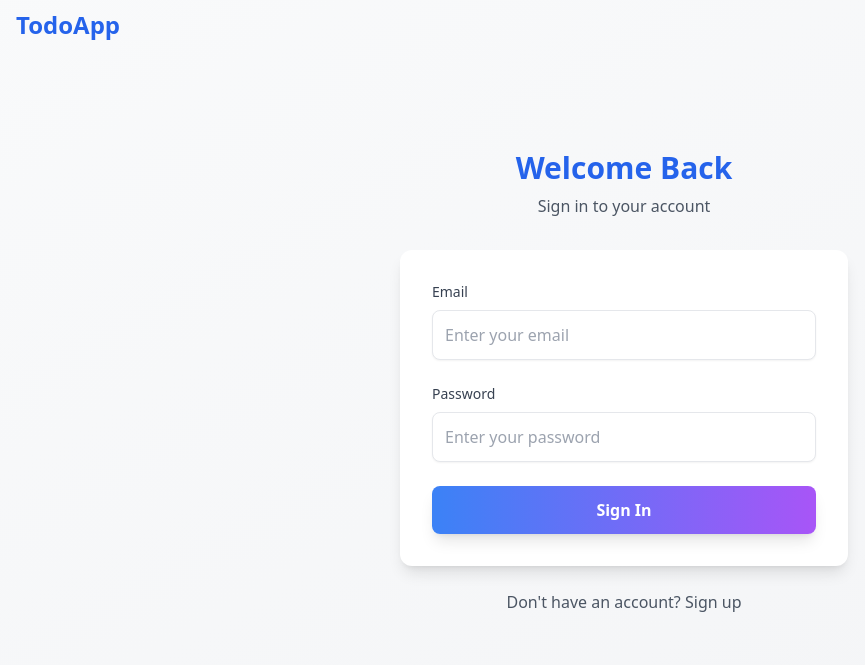
Test: LoginPage › handles login error
Type "test@example.com" into the field labelled "Email" at point(624, 335), box [432,310,816,360]
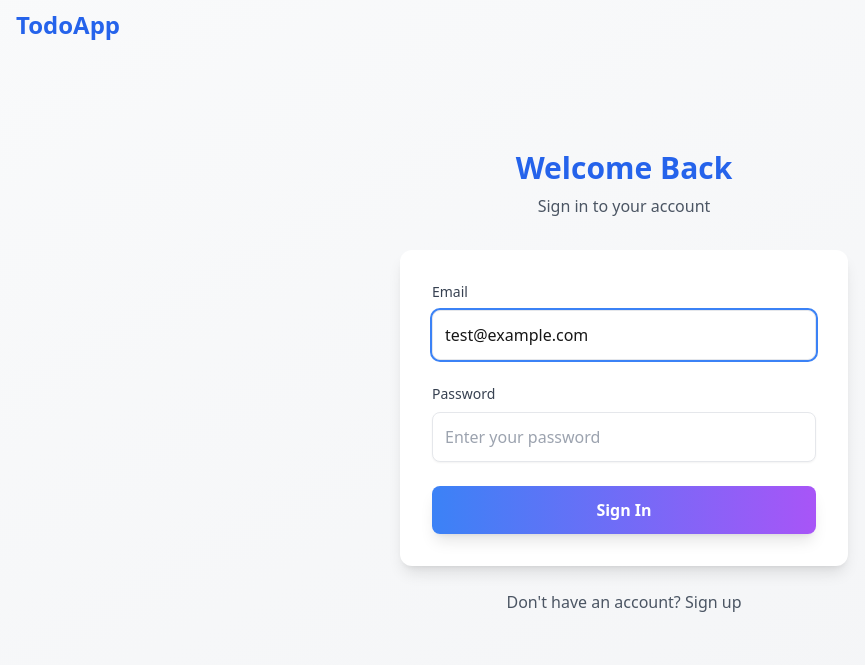
Type "password123" into the password field labelled "Password" at point(624, 437), box [432,412,816,462]
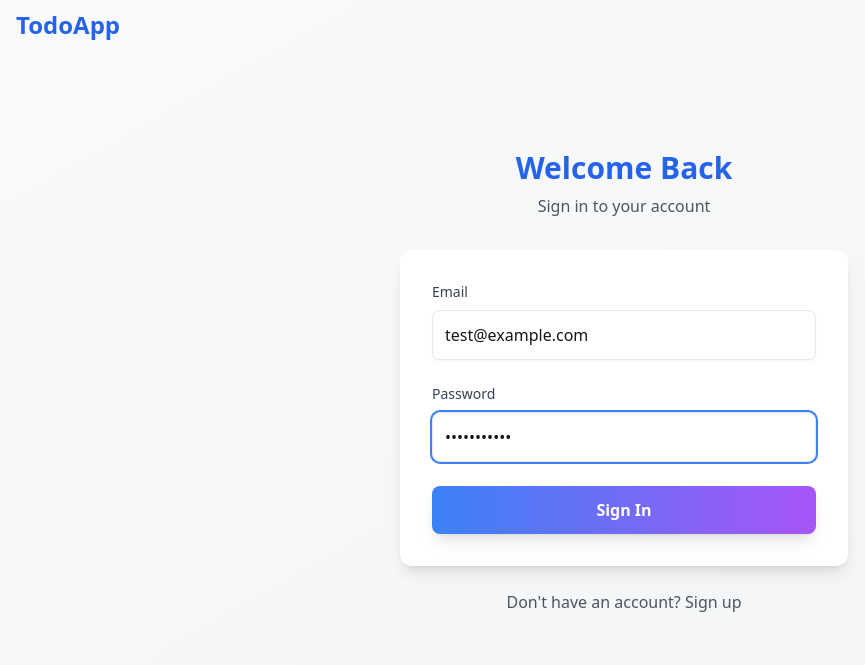
Click the button "Sign In" at point(624, 510), box [432,486,816,534]
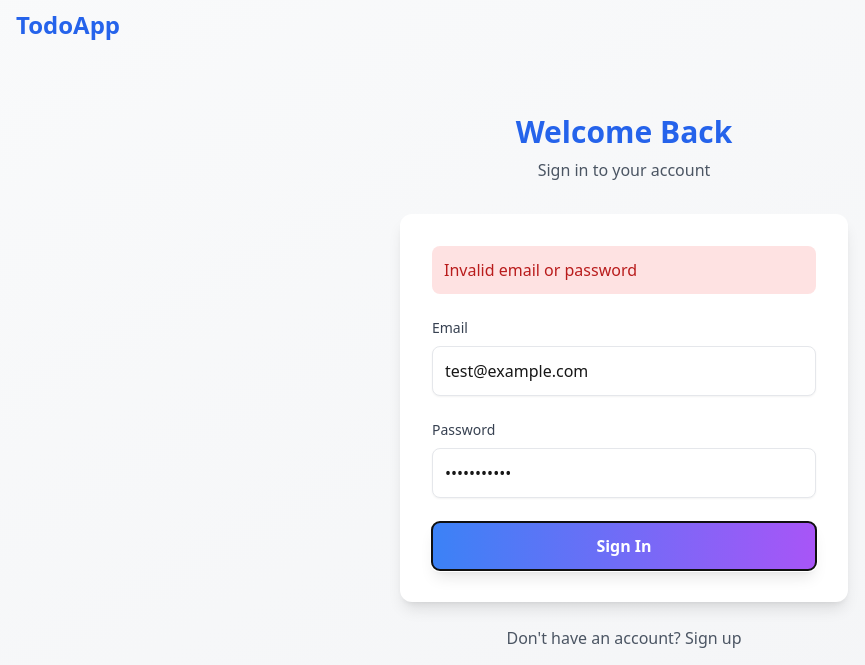
Now the text "Invalid email or password" is shown, box [432,246,816,294]
